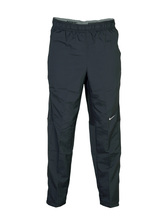clothoes: (40, 14, 126, 213)
